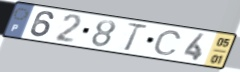2: (54, 13, 83, 45)
4: (181, 32, 207, 63)
6: (29, 10, 55, 39)
8: (89, 18, 118, 49)
C: (152, 29, 184, 56)
T: (122, 22, 149, 53)
